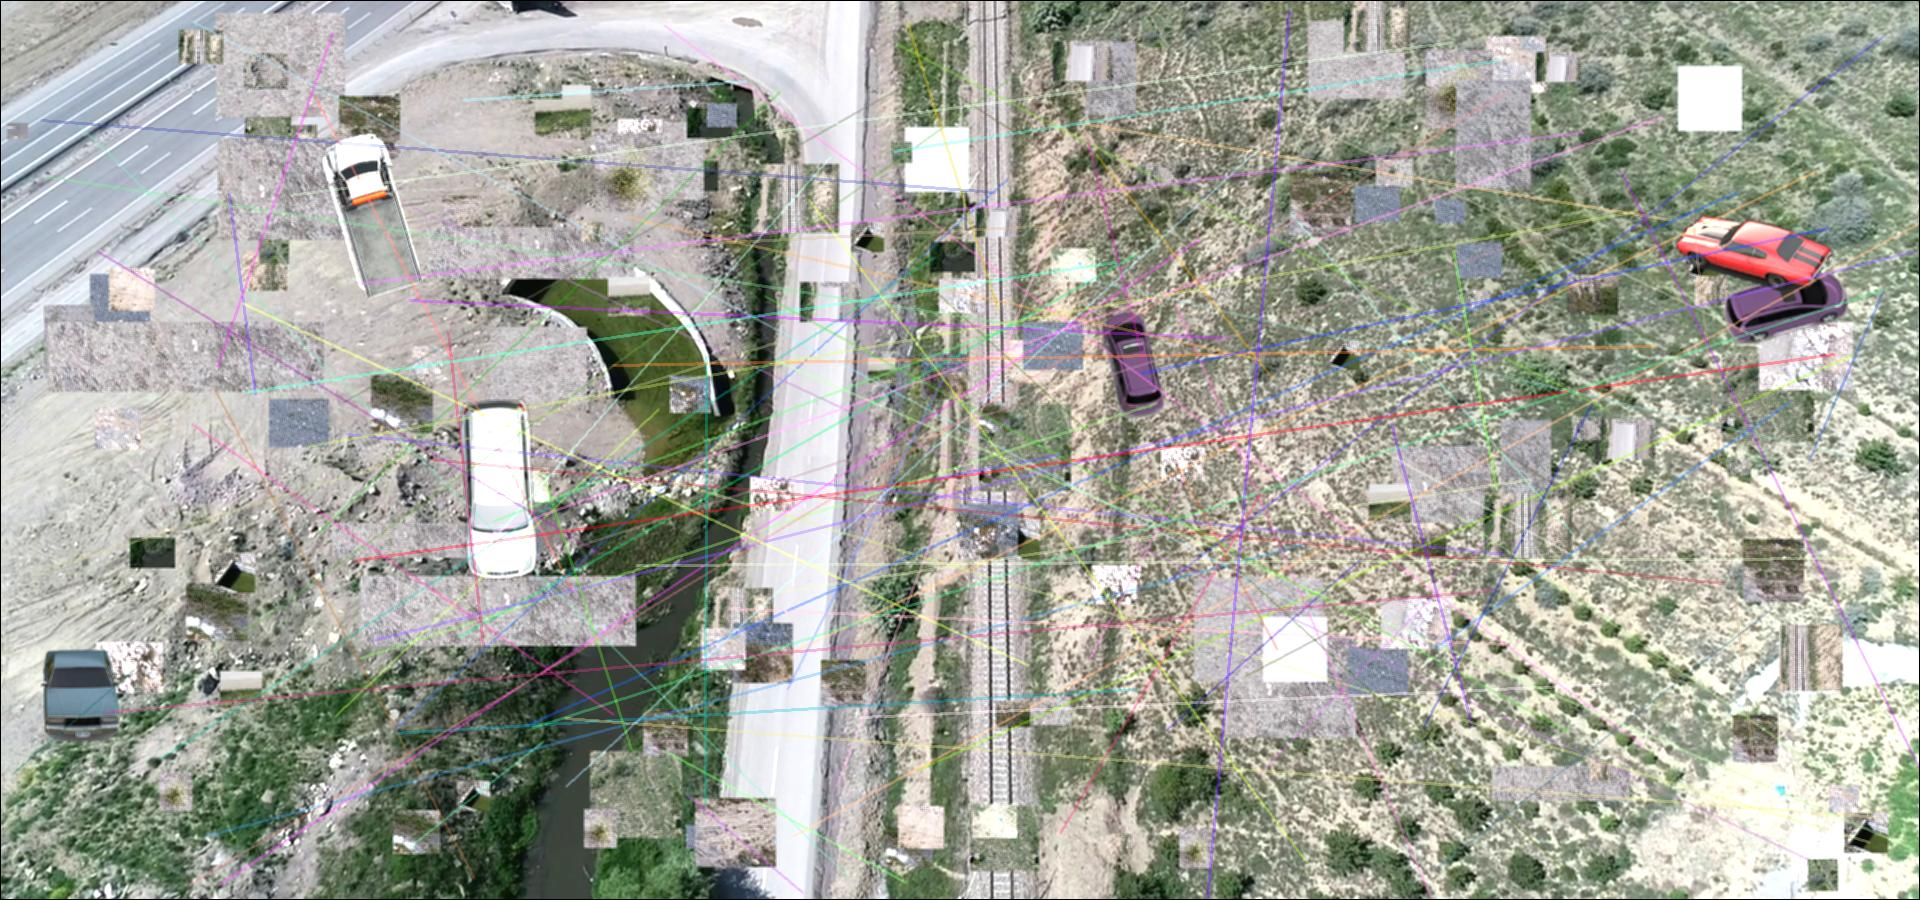arac: (444, 397, 549, 582), (321, 132, 427, 299), (1673, 211, 1836, 291), (1720, 273, 1851, 344), (36, 647, 122, 741), (1101, 313, 1171, 418)
